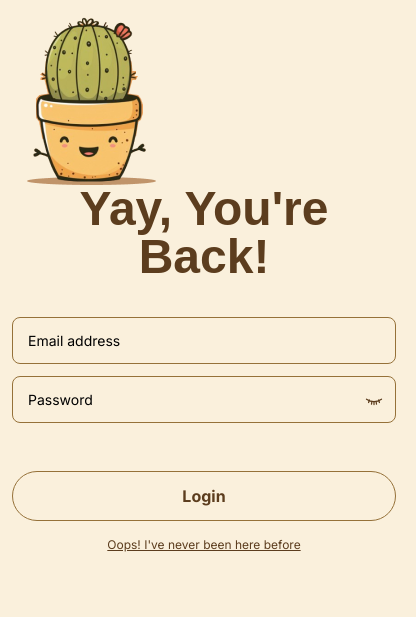
Test case: LoginForm › shows API field errors returned from the server
The width and height of the screenshot is (416, 617).
Type "wrong@example.com" into the field with placeholder "Email address".
click(204, 340); type("wrong@example.com")  # box x1=12 y1=317 x2=396 y2=364
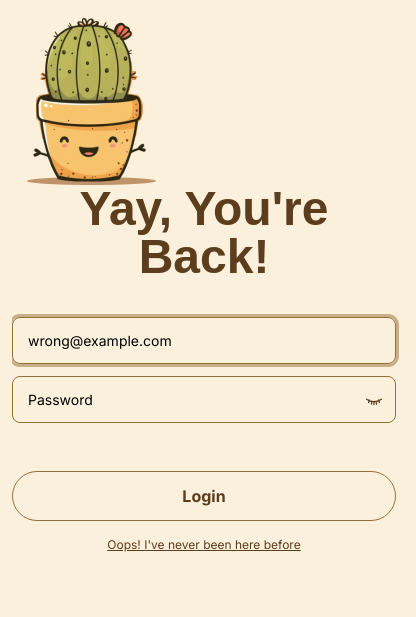
Type "wrongpassword" into the password field with placeholder "Password".
click(204, 400); type("wrongpassword")  # box x1=12 y1=376 x2=396 y2=423
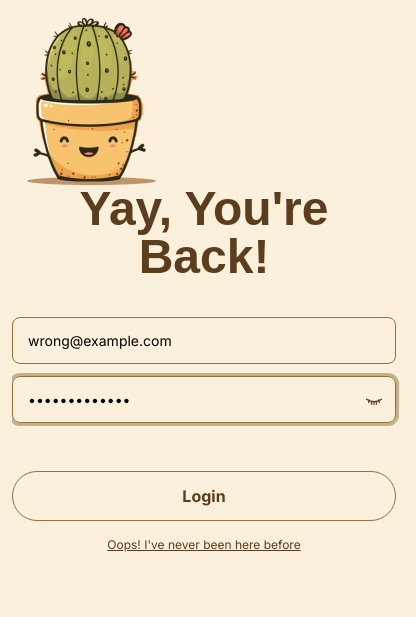
Click the button "Login".
click(204, 496)  # box x1=12 y1=471 x2=396 y2=521
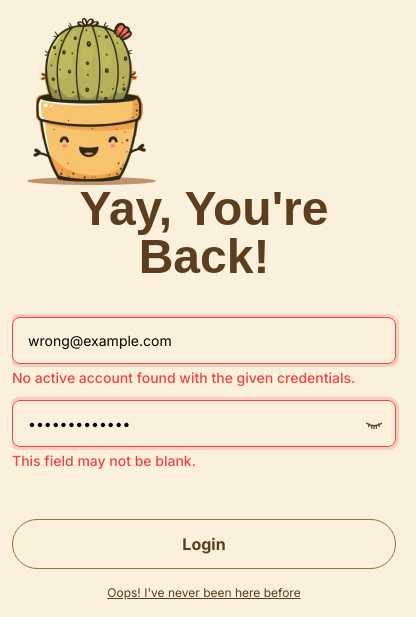
expect the text "No active account found with the given credentials." is shown: met, box x1=12 y1=368 x2=396 y2=388
expect the text "This field may not be blank." is shown: met, box x1=12 y1=452 x2=196 y2=469
